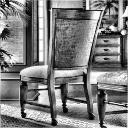chair_success: (14, 2, 106, 127)
